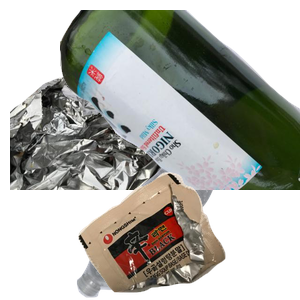glass: (60, 10, 300, 190)
metal: (10, 73, 212, 253)
plastic: (74, 156, 280, 300)
trash: (76, 170, 300, 300)
